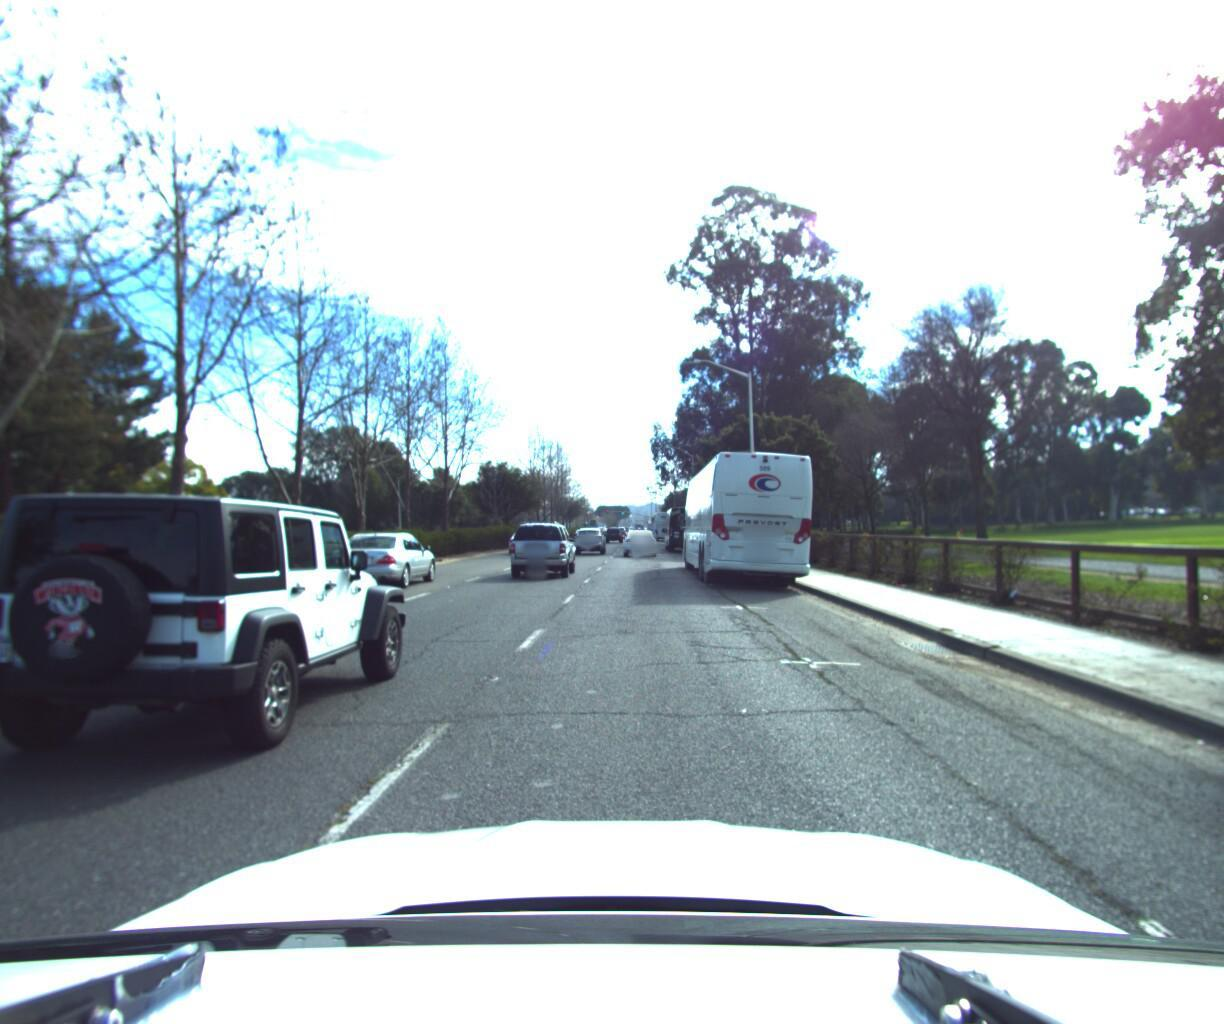bus: (677, 440, 828, 591), (660, 502, 709, 549)
car: (327, 526, 442, 590), (506, 516, 579, 580), (621, 524, 656, 553), (571, 525, 605, 554)
